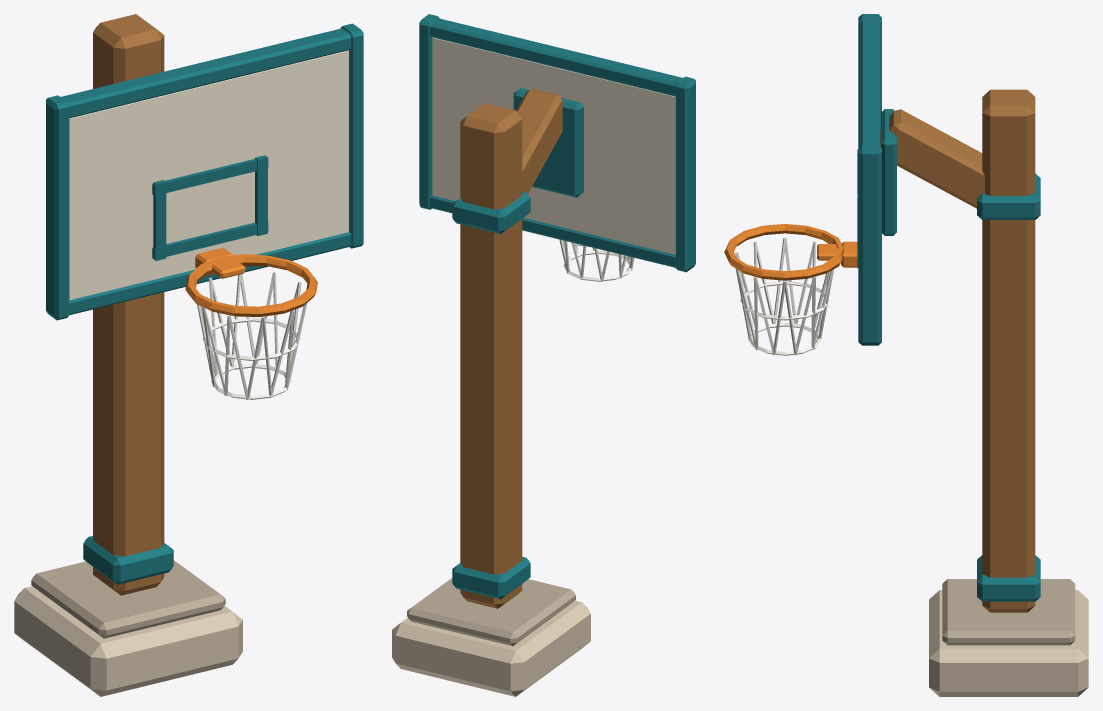
The model's file is basketball_hoop.glb.
3 views of the same model, side by side, from view 1: azimuth 30°, elevation 25°; view 2: azimuth 150°, elevation 25°; view 3: azimuth 270°, elevation 25° (orthographic). The views are drawn at different scales.
Visible parts, largest first — view 1: basketball_hoop, part_net, part_rim; view 2: basketball_hoop, part_net; view 3: basketball_hoop, part_net, part_rim.
Boxes of the visible parts, left/top/right/bottom form: basketball_hoop: left=14, top=14, right=363, bottom=696; part_net: left=197, top=272, right=307, bottom=399; part_rim: left=185, top=254, right=317, bottom=316; basketball_hoop: left=392, top=14, right=695, bottom=696; part_net: left=559, top=239, right=634, bottom=281; basketball_hoop: left=841, top=14, right=1088, bottom=696; part_net: left=735, top=237, right=833, bottom=355; part_rim: left=724, top=224, right=843, bottom=280.
Size of the model in its own units: 1.22 by 2.43 by 1.37.
